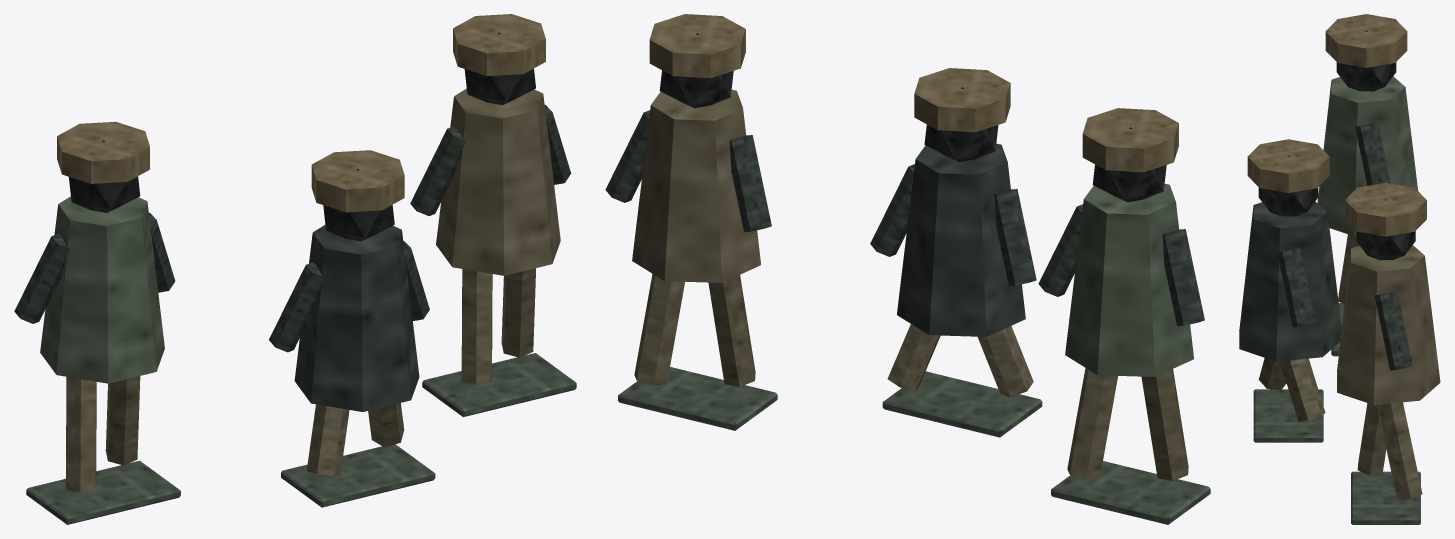
File: MR_DistantInfantryGroup.fbx
3 renders of one model, left to right at view 1: azimuth 30°, elevation 25°; view 2: azimuth 150°, elevation 25°; view 3: azimuth 270°, elevation 25°, orthographic. The views are drawn at different scales.
Visible parts, largest first — view 1: MR_DistantInfantryGroup; view 2: MR_DistantInfantryGroup; view 3: MR_DistantInfantryGroup.
Part boxes in pixels (bbox=[...]): MR_DistantInfantryGroup: bbox=[14, 14, 576, 524]; MR_DistantInfantryGroup: bbox=[605, 14, 1210, 524]; MR_DistantInfantryGroup: bbox=[1239, 14, 1440, 524].
Size of the model in its own units: 2.83 by 1.72 by 1.03.
Materials: 1 (1 with a texture image).
